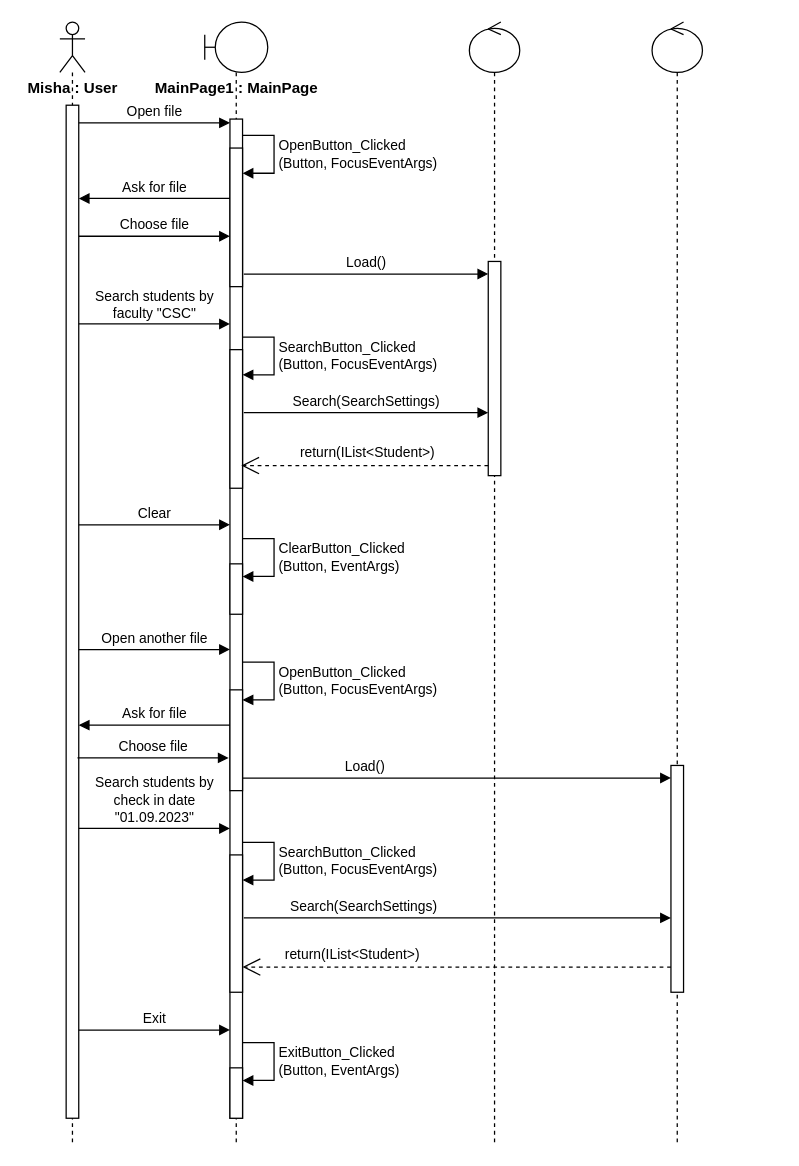
Image size: 799x1166. Some labels were removed from this diagram. Here are the shapes that lost their labels. From the top down, the box of each, then its label:
(468, 21, 520, 1143): SAX1 : SAXStrategy
(651, 21, 702, 1143): DOM1 : DOMStrategy
